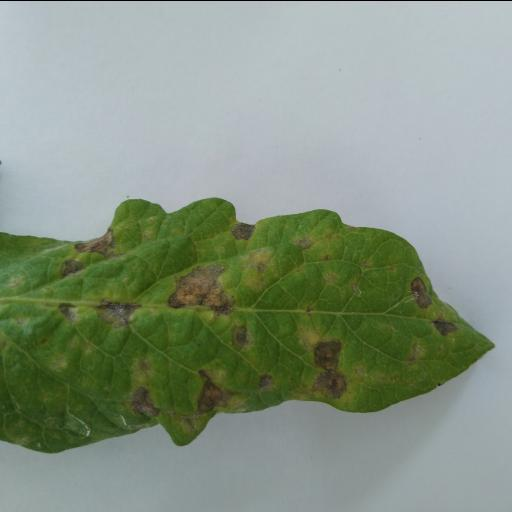Early Blight: (0, 194, 496, 454)
